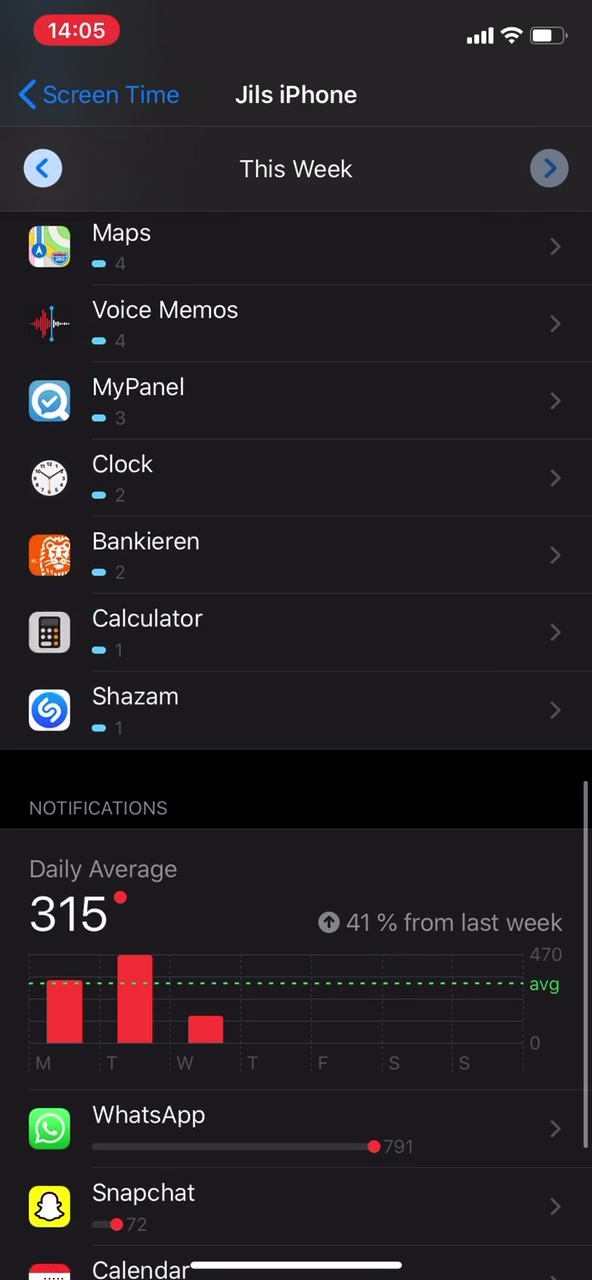not_app: (17, 1102, 440, 1174), (7, 1177, 448, 1246)
not_over: (9, 786, 242, 942)
pick_app: (15, 369, 270, 441), (22, 286, 306, 347), (9, 680, 247, 744), (17, 524, 247, 588), (22, 603, 254, 663), (22, 216, 257, 274), (20, 450, 236, 507)
week: (223, 146, 370, 191)
